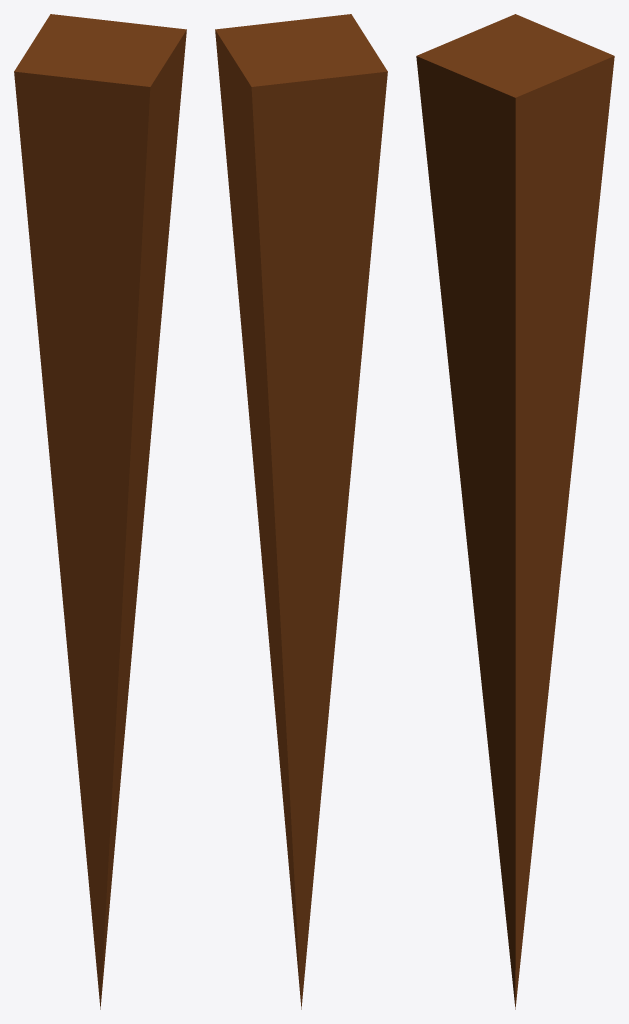
File: TorchTri.fbx
3 renders of one model, left to right at view 1: azimuth 30°, elevation 25°; view 2: azimuth 150°, elevation 25°; view 3: azimuth 270°, elevation 25°, orthographic.
Visible parts, largest first — view 1: pPyramid1; view 2: pPyramid1; view 3: pPyramid1.
Part boxes in pixels (<box>): pPyramid1: <box>14,14,186,1009</box>; pPyramid1: <box>215,14,387,1009</box>; pPyramid1: <box>416,14,614,1009</box>.
Bounding box in the file's own units: 0.9226 × 4.89 × 0.9226.
